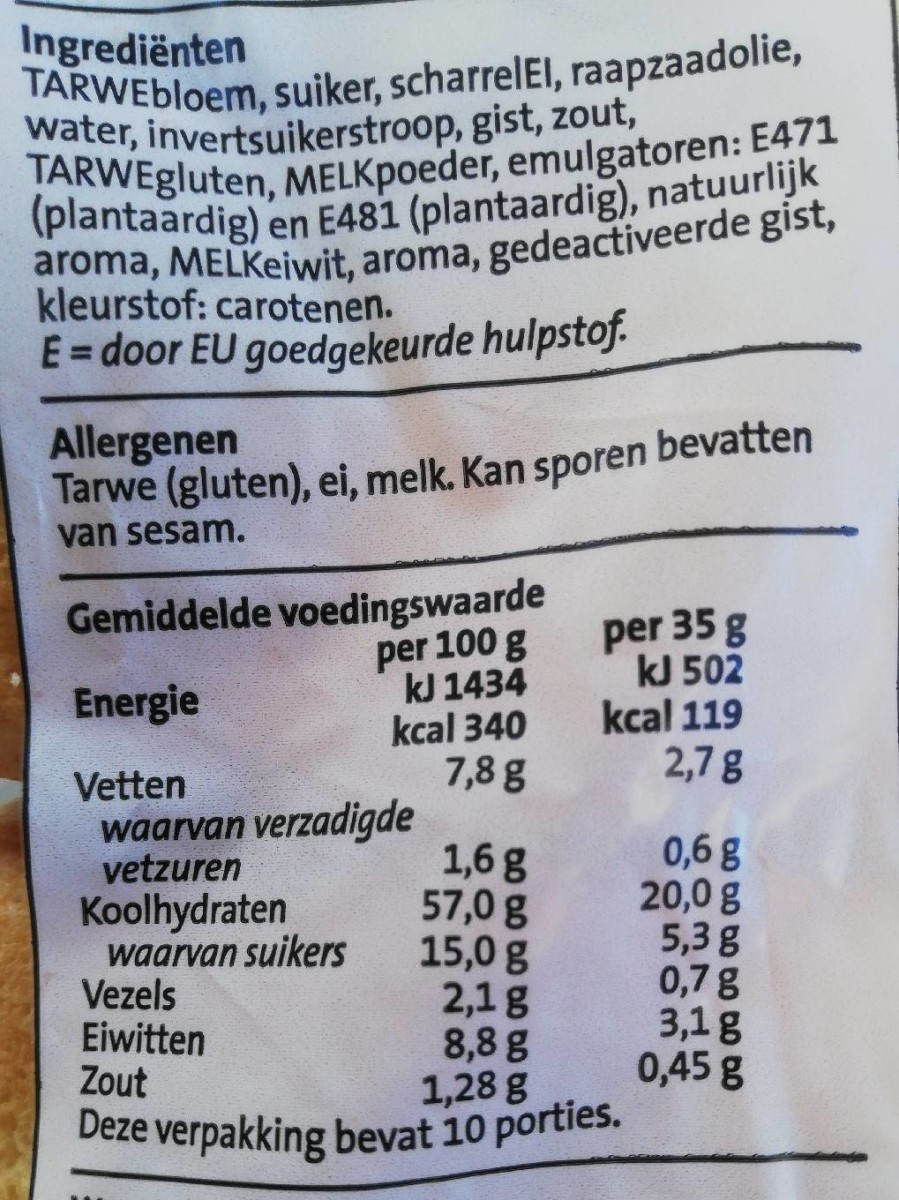column: (67, 628, 531, 1106), (593, 603, 749, 1095)
table: (59, 575, 760, 1113)
